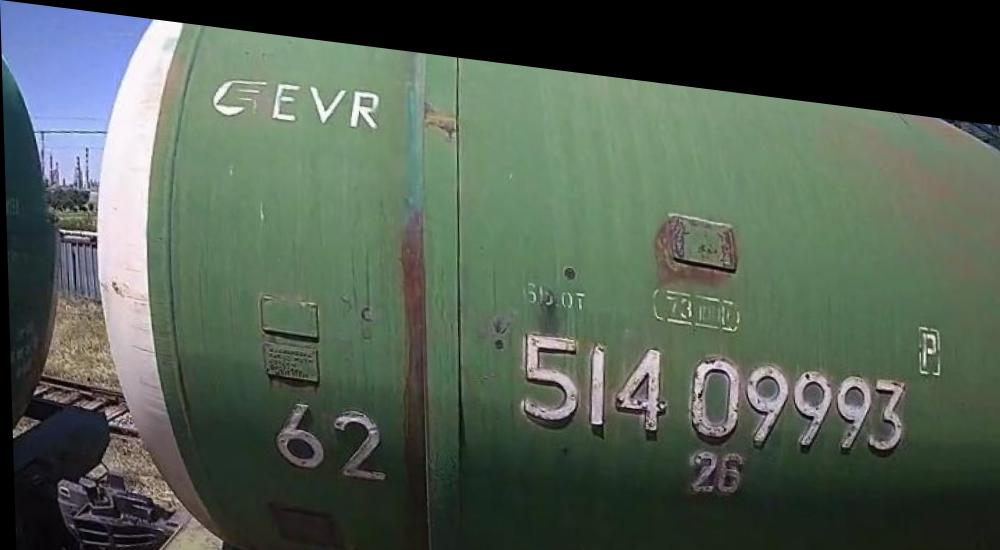Wagon-number: (513, 311, 907, 454)
